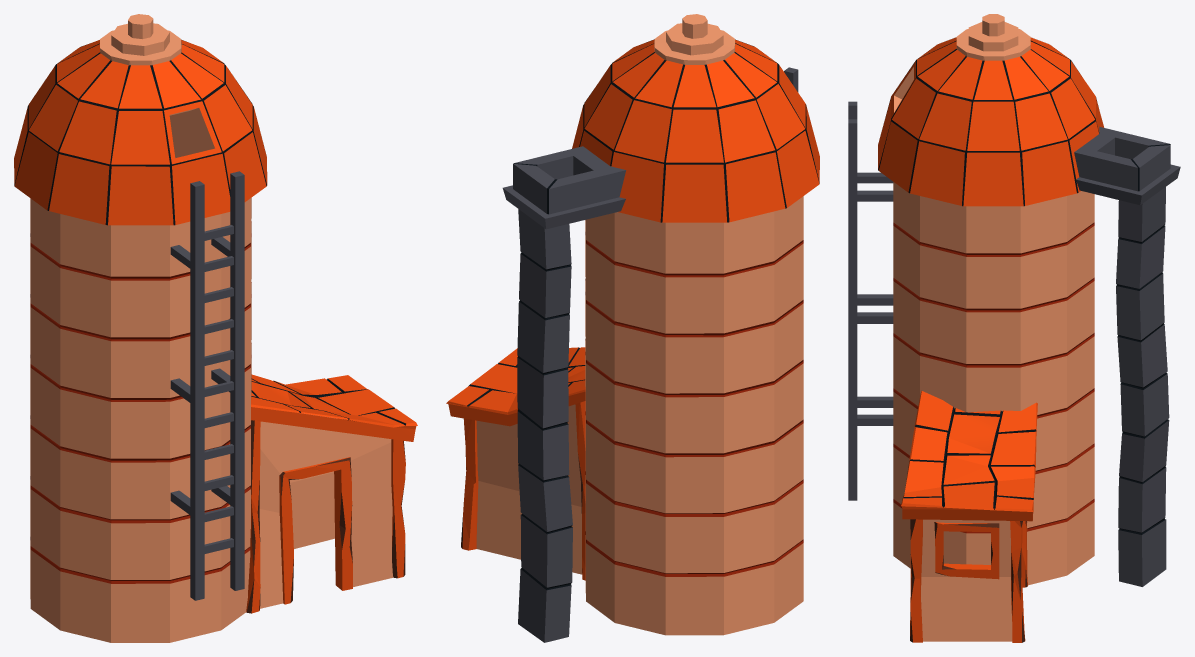
File: Silo.fbx
3 views of the same model, side by side, from view 1: azimuth 30°, elevation 25°; view 2: azimuth 150°, elevation 25°; view 3: azimuth 270°, elevation 25° (orthographic). The views are drawn at different scales.
Parts seen in each view (by area): view 1: Silo; view 2: Silo; view 3: Silo.
Part boxes in pixels (x1,y1,x2,y2): Silo: (14,14,417,642); Silo: (446,14,819,642); Silo: (848,14,1180,642).
Size of the model in its own units: 187 by 303 by 173.
